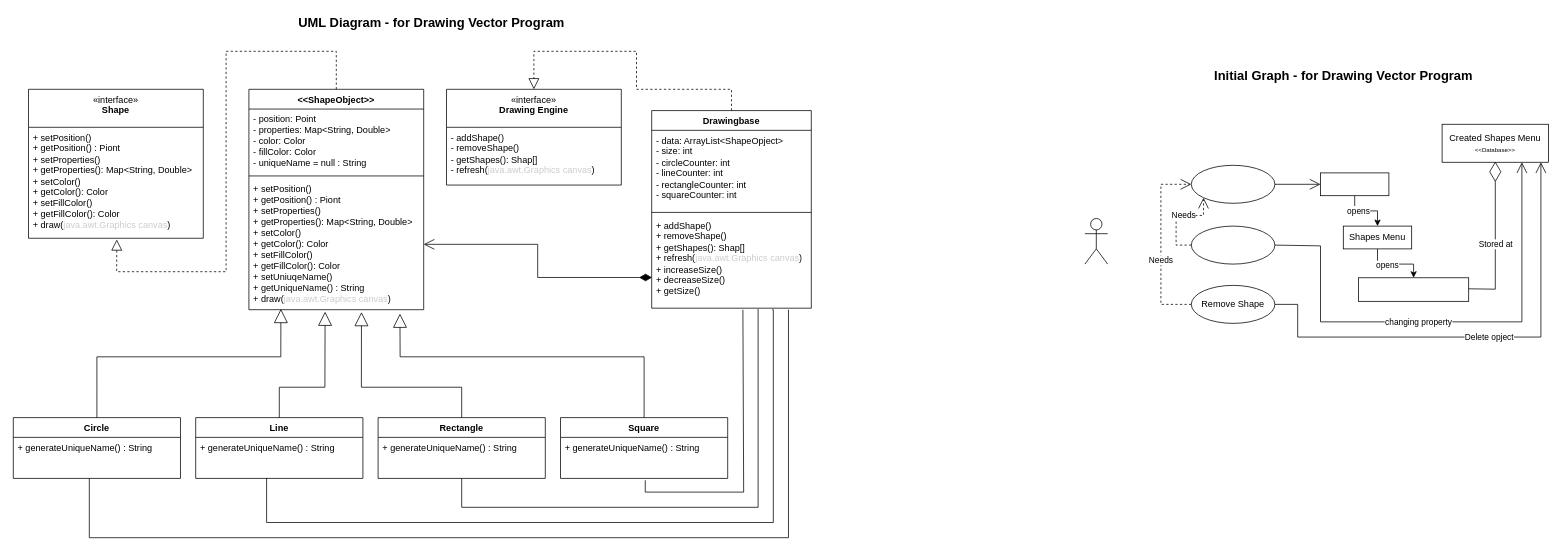
This 1565x552 diagram has some shape labels left out. The shapes that lost their labels are listed below. From the top down, each one's centre as x and y in pixels, then its label:
At pixel 1233 184: "Draw Shape".
At pixel 1354 184: "Button Click".
At pixel 1096 241: "User".
At pixel 1233 244: "Colorize Shape".
At pixel 1413 289: "Properties Input Menu".
